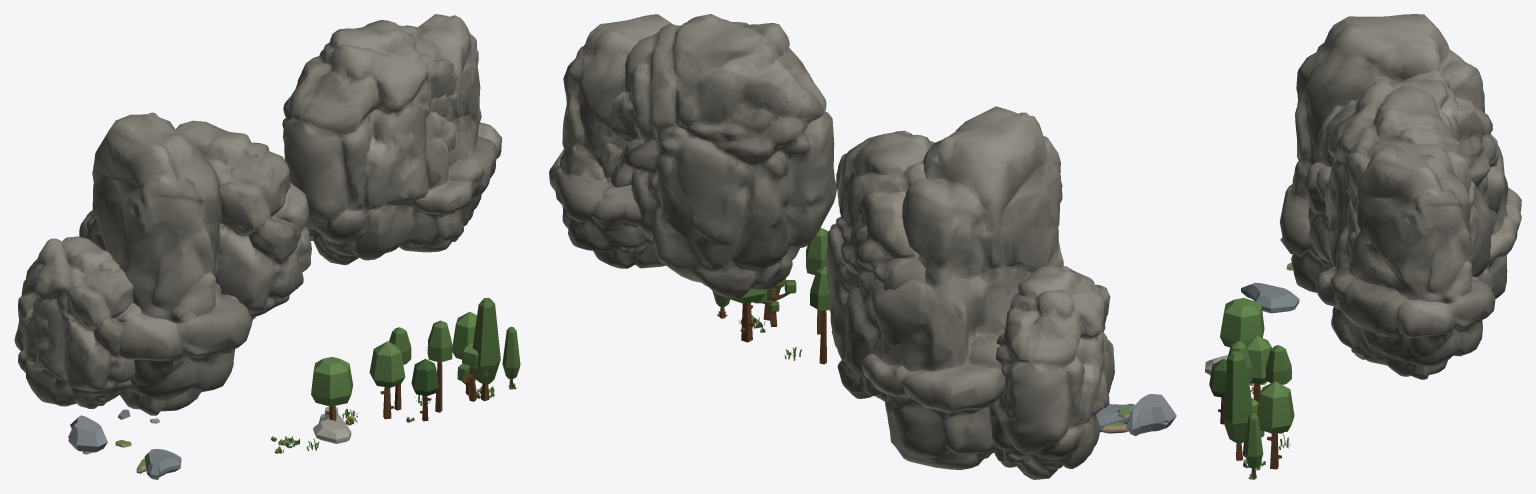
Rendered from cell_x-1_z-3_render.gltf.
3 renders of one model, left to right at view 1: azimuth 30°, elevation 25°; view 2: azimuth 150°, elevation 25°; view 3: azimuth 270°, elevation 25°, orthographic. The views are drawn at different scales.
Parts seen in each view (by area): view 1: cell_x-1_z-3; view 2: cell_x-1_z-3; view 3: cell_x-1_z-3.
Boxes of the visible parts, x1,y1,x2,y2 form: cell_x-1_z-3: (14,14,520,479); cell_x-1_z-3: (549,14,1176,479); cell_x-1_z-3: (1205,14,1521,479).
Bounding box in the file's own units: 45.1 × 29.68 × 24.37.
13 materials, 1 textured.
